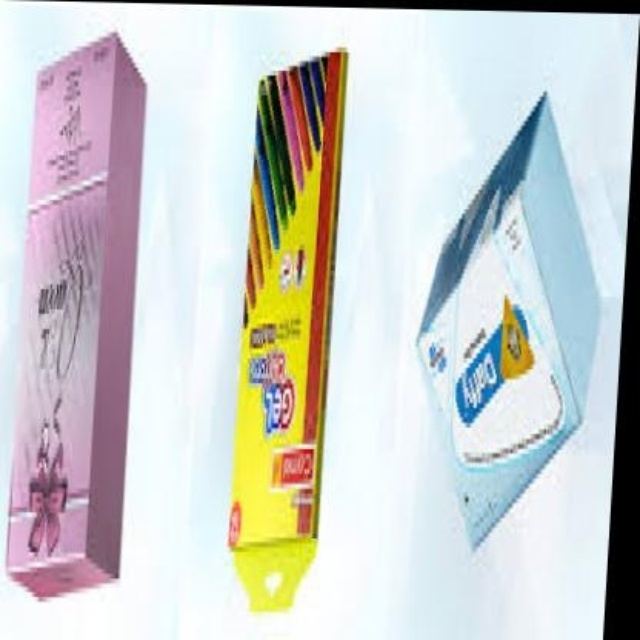trash: (418, 94, 597, 545), (6, 34, 145, 595), (228, 51, 346, 546)
